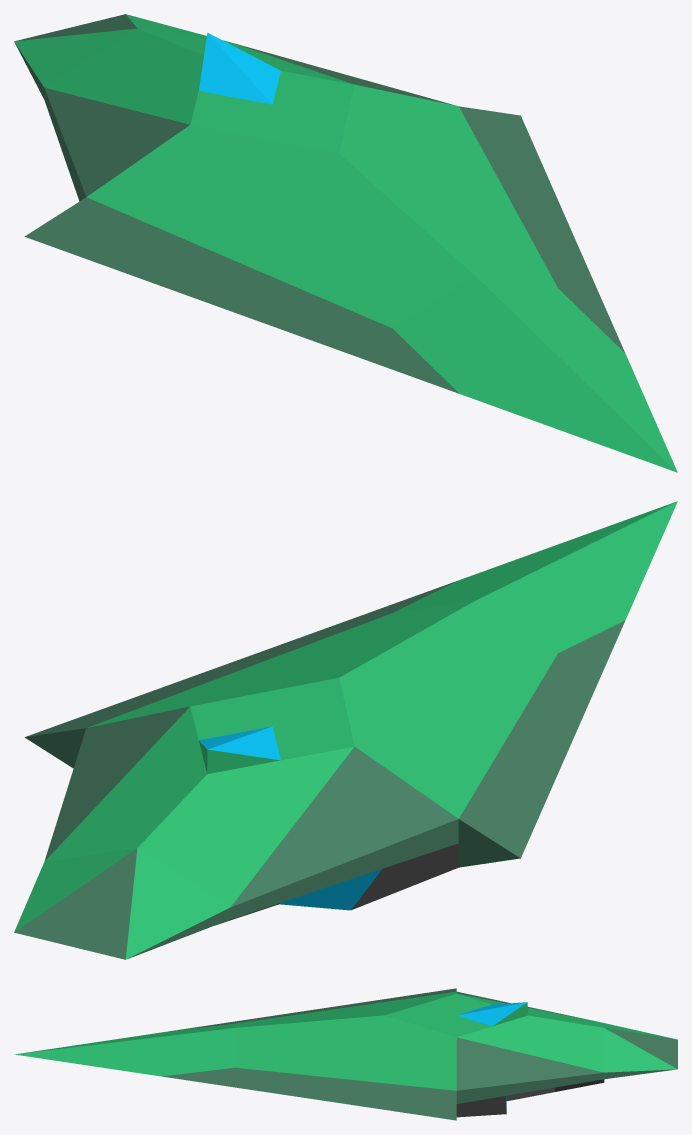
The model's file is tri_battleship_1.fbx.
3 renders of one model, top to bottom at view 1: azimuth 30°, elevation 25°; view 2: azimuth 150°, elevation 25°; view 3: azimuth 270°, elevation 25°, orthographic. The views are drawn at different scales.
Parts seen in each view (by area): view 1: battleship; view 2: battleship; view 3: battleship.
Part boxes in pixels (left/top/right/bottom): battleship: left=14, top=14, right=677, bottom=472; battleship: left=14, top=501, right=677, bottom=959; battleship: left=14, top=988, right=677, bottom=1120.
Bounding box in the file's own units: 89.1 × 28.97 × 189.
1 material, 1 textured.
